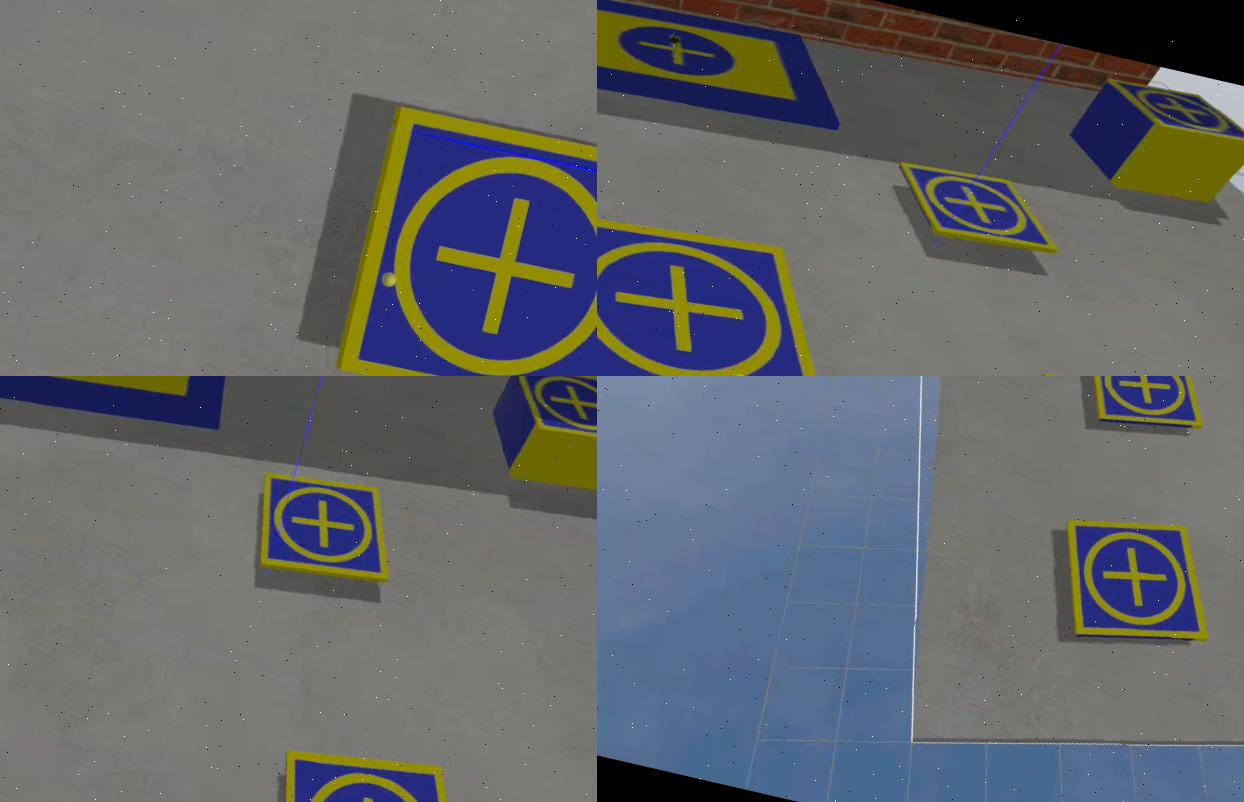large_base: (598, 1, 866, 145), (1, 377, 250, 456)
small_base: (336, 100, 598, 377), (598, 199, 862, 377), (1043, 501, 1229, 666), (251, 472, 409, 602), (889, 156, 1069, 264), (260, 734, 497, 802), (1096, 70, 1244, 158), (1073, 377, 1219, 448), (503, 377, 598, 460)
